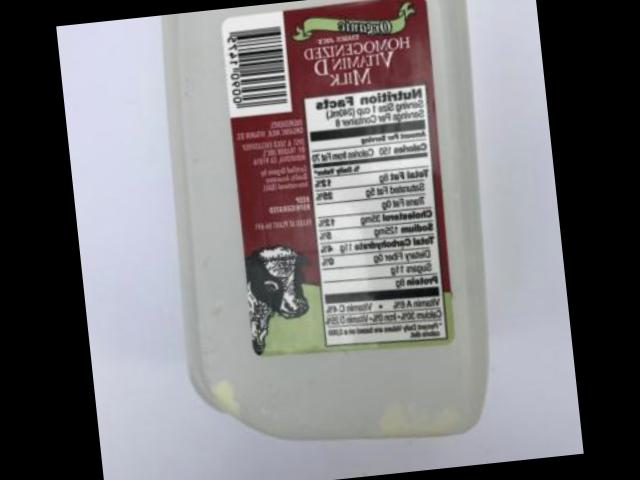plastic: (161, 0, 486, 437)
